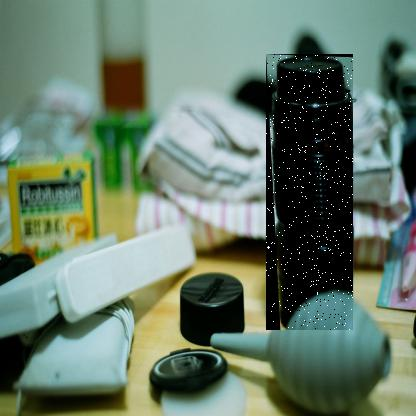Camera: (267, 55, 355, 332)
